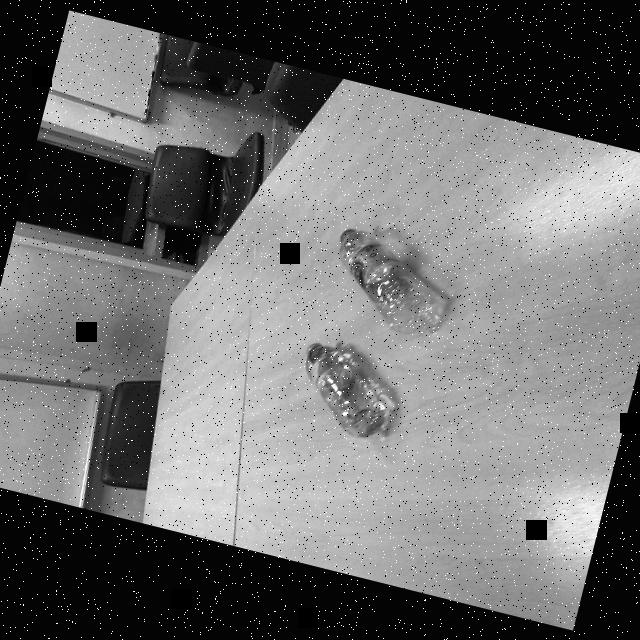plastic_bottle: (318, 220, 461, 342), (286, 336, 406, 444)
plastic_bottle_cap: (336, 227, 361, 250), (302, 340, 324, 363)
